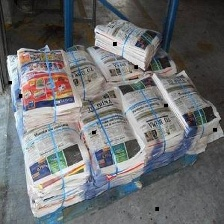news_paper: (71, 90, 149, 194), (14, 118, 94, 219), (109, 74, 189, 173), (152, 64, 223, 158), (15, 44, 80, 132), (85, 39, 186, 83), (92, 13, 170, 69), (54, 40, 106, 96)
